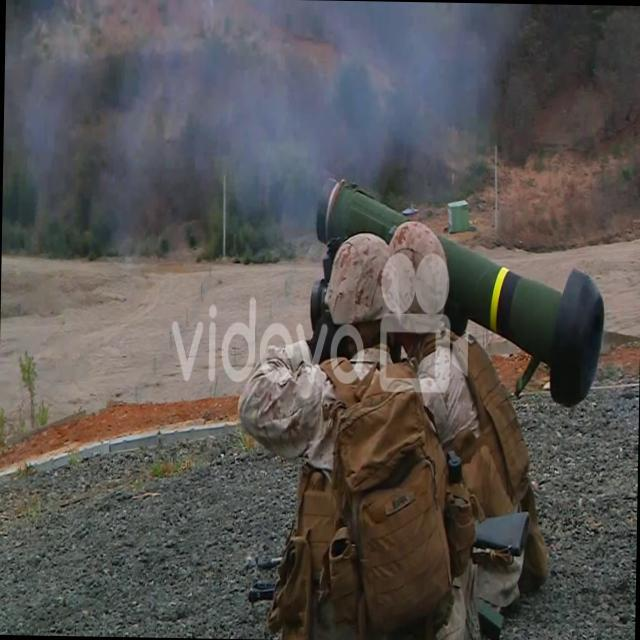rocket: (318, 180, 604, 413)
